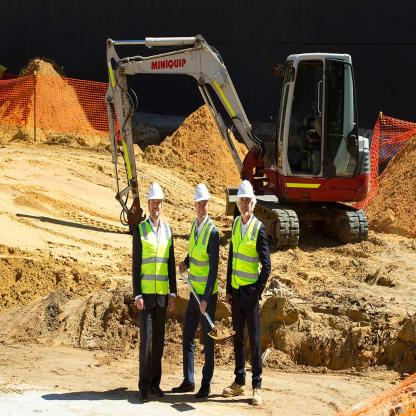person: (223, 167, 270, 410), (178, 166, 224, 397), (132, 174, 174, 402)
